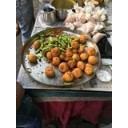bonda: (29, 53, 39, 64), (85, 63, 93, 76), (70, 40, 80, 50), (46, 66, 55, 77), (89, 46, 97, 57), (51, 47, 60, 56), (60, 62, 68, 72), (73, 67, 81, 77), (33, 40, 41, 48), (81, 52, 88, 61), (73, 53, 80, 60)
